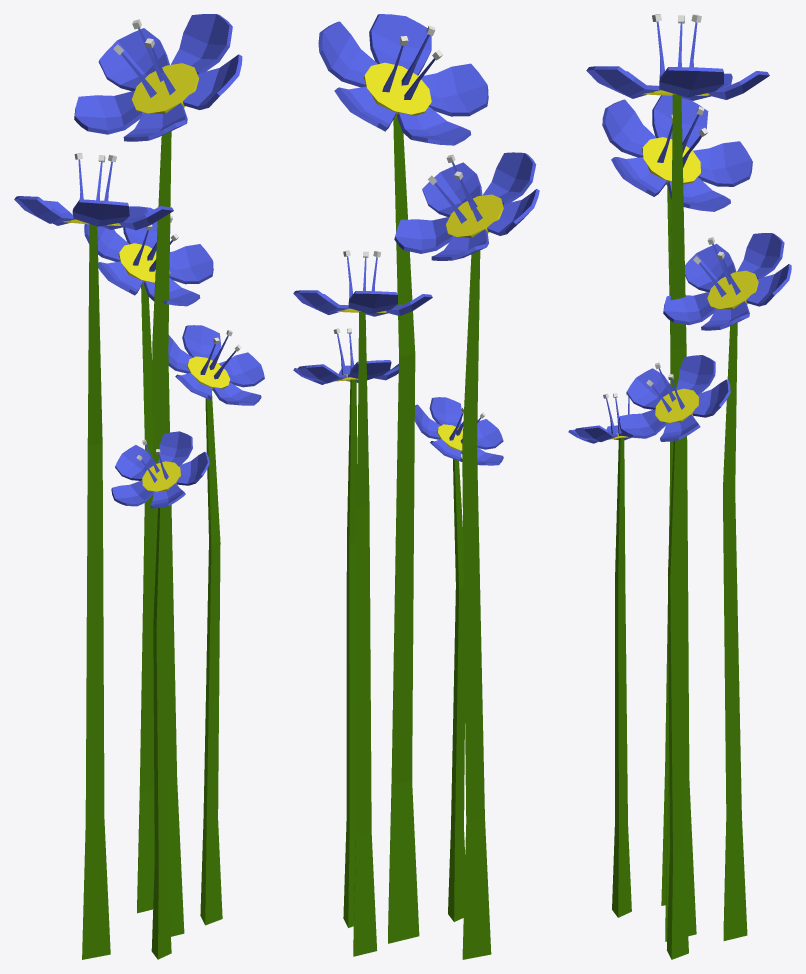
The model's file is Flower_Blue.fbx.
3 renders of one model, left to right at view 1: azimuth 30°, elevation 25°; view 2: azimuth 150°, elevation 25°; view 3: azimuth 270°, elevation 25°, orthographic.
Parts seen in each view (by area): view 1: Flower_Blue; view 2: Flower_Blue; view 3: Flower_Blue.
Part boxes in pixels (bbox=[...]): Flower_Blue: bbox=[14, 14, 264, 959]; Flower_Blue: bbox=[293, 14, 539, 959]; Flower_Blue: bbox=[568, 14, 791, 959].
Size of the model in its own units: 28.26 by 102 by 22.73.
